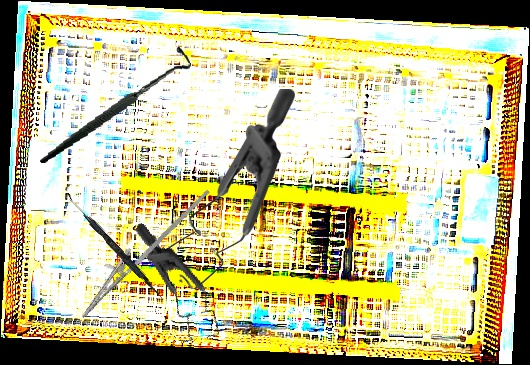Hook Surgical: (28, 45, 201, 164)
Needle Holder: (71, 168, 210, 332)
Spatula Surgical: (62, 193, 168, 301)
Speculum: (153, 89, 295, 289), (99, 222, 248, 356)
